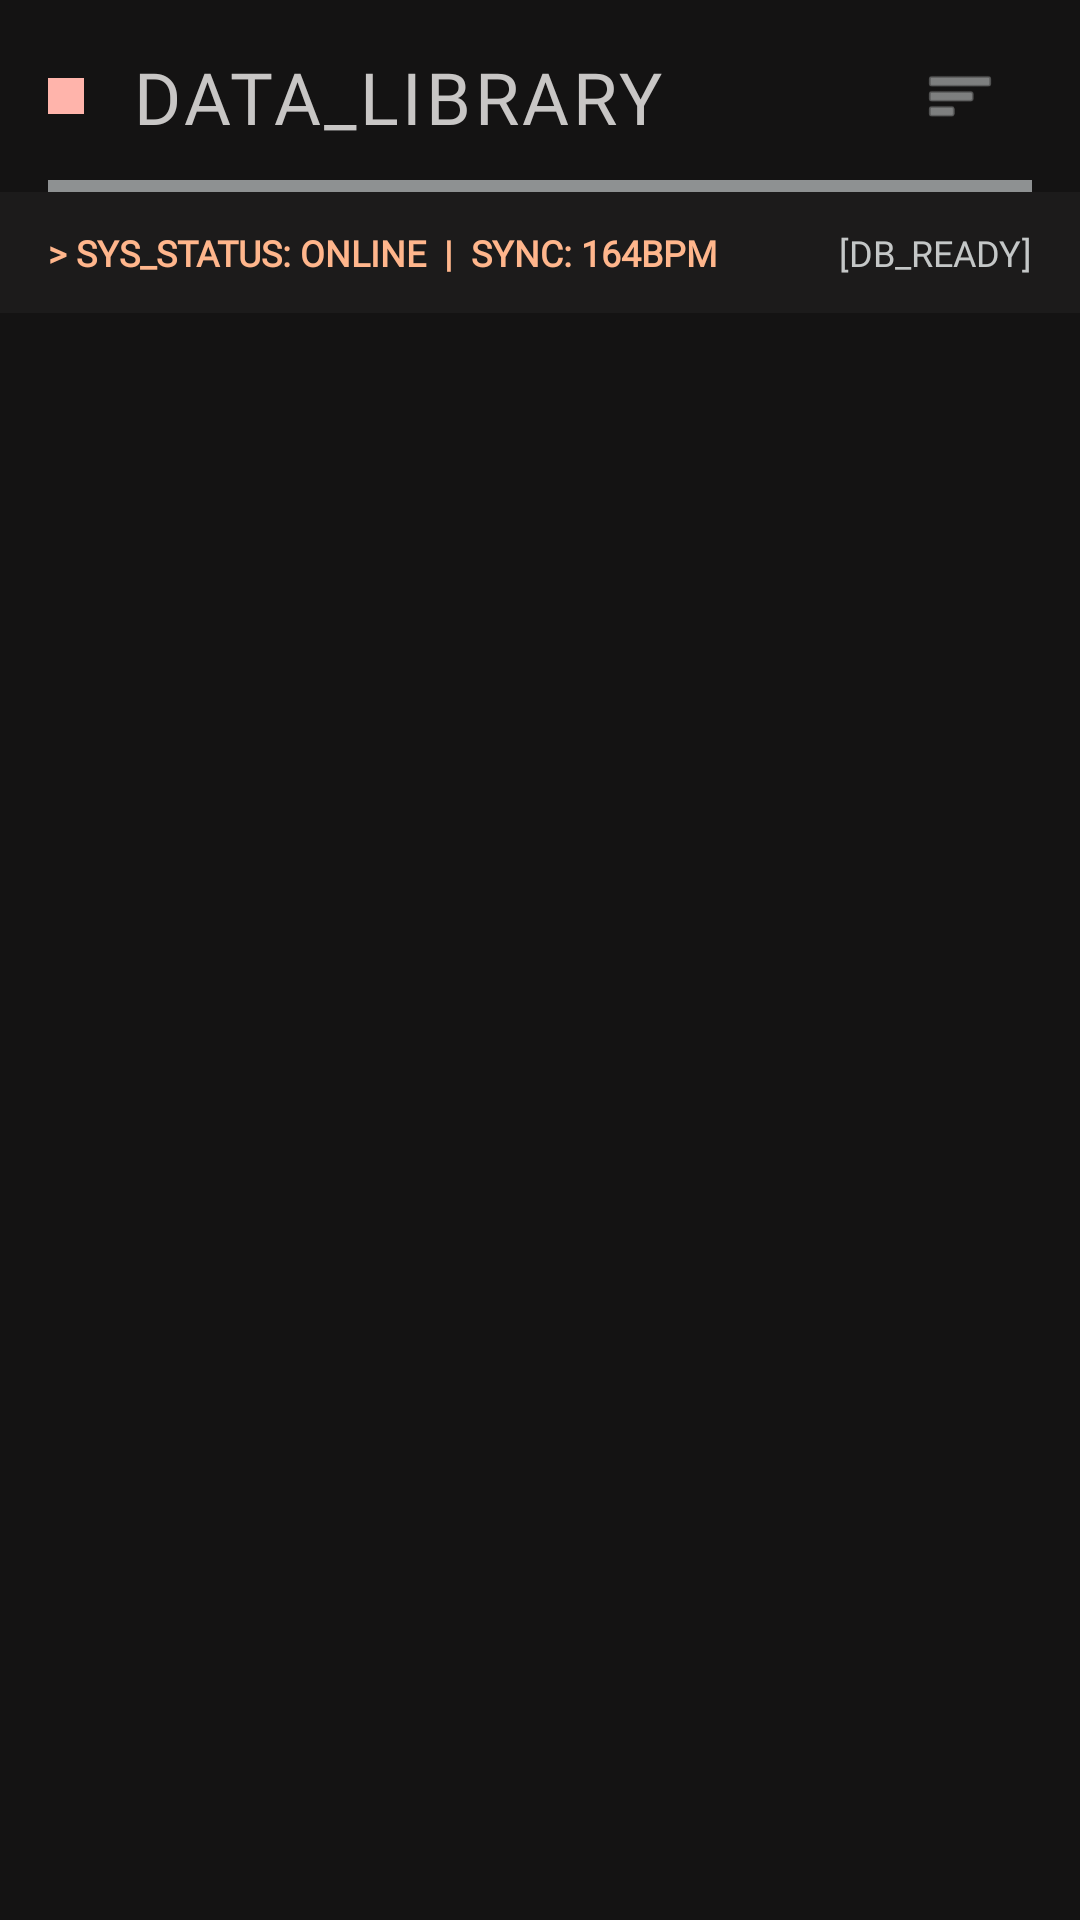

Icons on this 1080px x 1920px Android screen, each with the point to tap as (x,y):
sort by size: (960,96)
